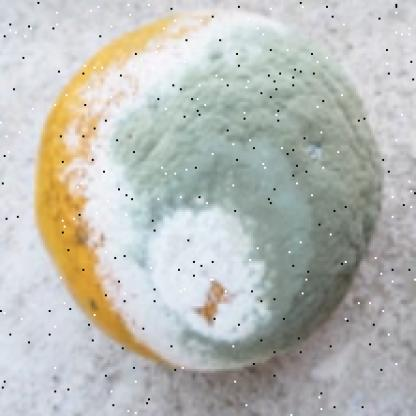rotten: (32, 14, 382, 374)
